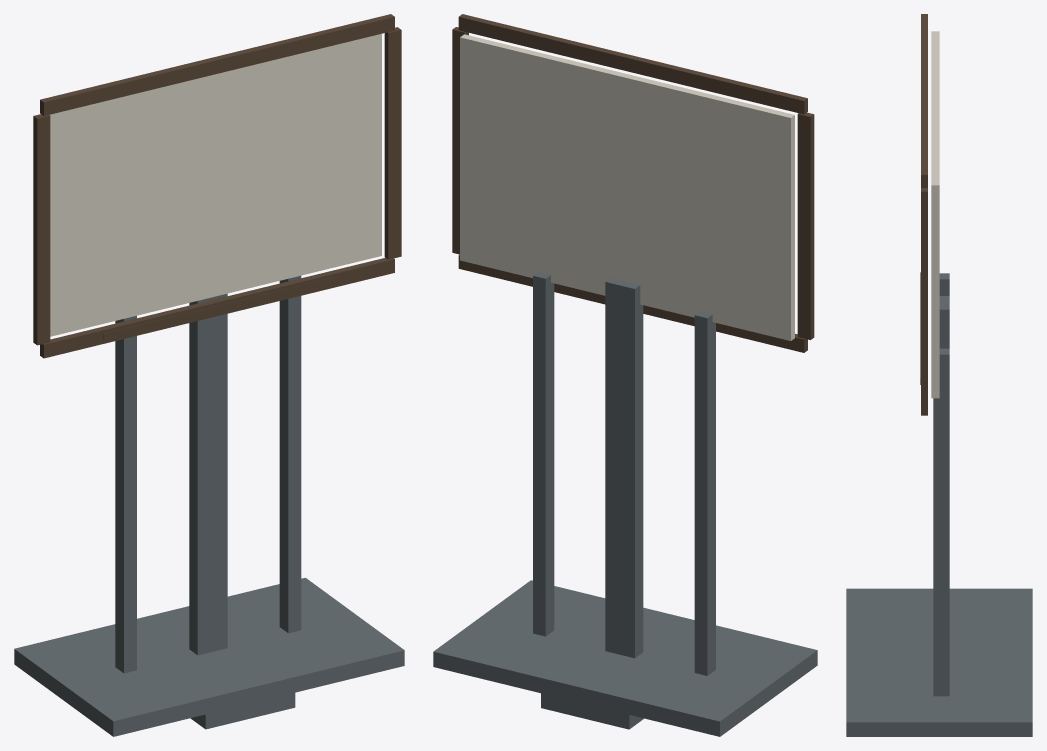
The model's file is variant-whiteboard.glb.
The picture shows the model from 3 angles, left to right: view 1: azimuth 30°, elevation 25°; view 2: azimuth 150°, elevation 25°; view 3: azimuth 270°, elevation 25°; orthographic projection. The views are drawn at different scales.
Visible parts, largest first — view 1: information-back, whiteboard-wide-sole, information-post, whiteboard-right-brace, whiteboard-left-brace, frame-top, frame-bottom, frame-left, frame-right, marker-shelf, information-base; view 2: information-back, whiteboard-wide-sole, information-post, whiteboard-left-brace, whiteboard-right-brace, frame-top, frame-left, frame-bottom, frame-right, information-base; view 3: whiteboard-wide-sole, whiteboard-right-brace, information-back, frame-right, frame-top, information-post.
Part boxes in pixels (x1,y1,x2,y2): information-back: [49, 33, 381, 336]; whiteboard-wide-sole: [14, 577, 404, 736]; information-post: [189, 293, 227, 655]; whiteboard-right-brace: [279, 275, 301, 633]; whiteboard-left-brace: [115, 315, 136, 673]; frame-top: [40, 14, 394, 115]; frame-bottom: [40, 257, 394, 358]; frame-left: [33, 114, 50, 345]; frame-right: [384, 27, 401, 259]; marker-shelf: [103, 277, 335, 340]; information-base: [190, 692, 295, 729]; information-back: [460, 34, 794, 340]; whiteboard-wide-sole: [433, 580, 817, 736]; information-post: [605, 278, 643, 658]; whiteboard-left-brace: [694, 311, 715, 675]; whiteboard-right-brace: [533, 272, 554, 636]; frame-top: [458, 14, 807, 114]; frame-left: [797, 112, 814, 339]; frame-bottom: [458, 254, 807, 352]; frame-right: [452, 27, 468, 254]; information-base: [541, 693, 643, 729]; whiteboard-wide-sole: [846, 588, 1032, 736]; whiteboard-right-brace: [933, 348, 949, 696]; information-back: [931, 31, 939, 398]; frame-right: [921, 188, 927, 404]; frame-top: [921, 14, 927, 187]; information-post: [939, 296, 949, 348].
Bounding box in the file's own units: 0.975 × 1.63 × 0.46.
